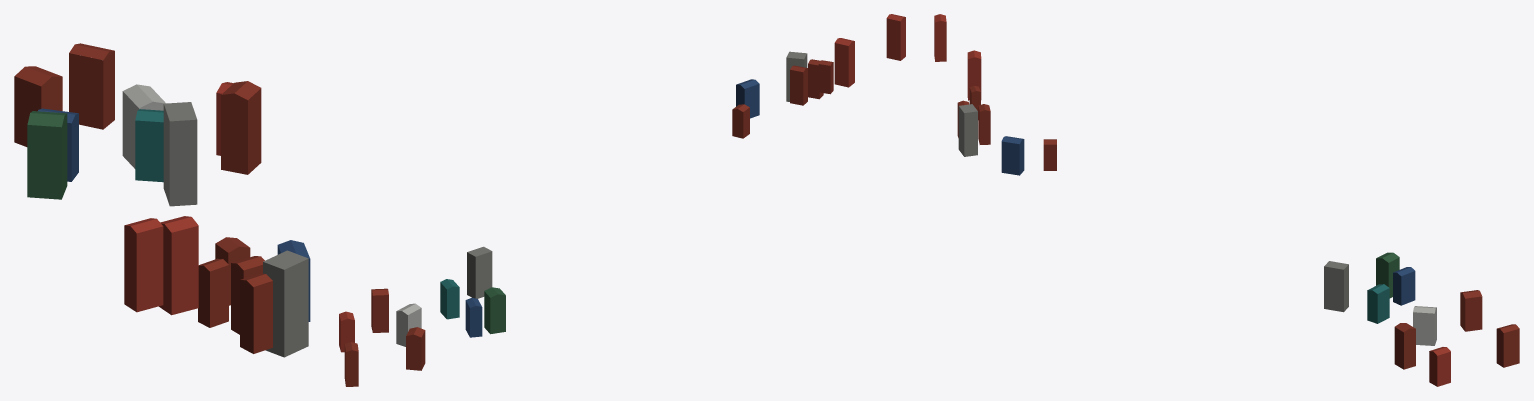
The model's file is near-15-27360-14875.374fee12.glb.
The picture shows the model from 3 angles, left to right: view 1: azimuth 30°, elevation 25°; view 2: azimuth 150°, elevation 25°; view 3: azimuth 270°, elevation 25°; orthographic projection. The views are drawn at different scales.
Size of the model in its own units: 177 by 119 by 287.
